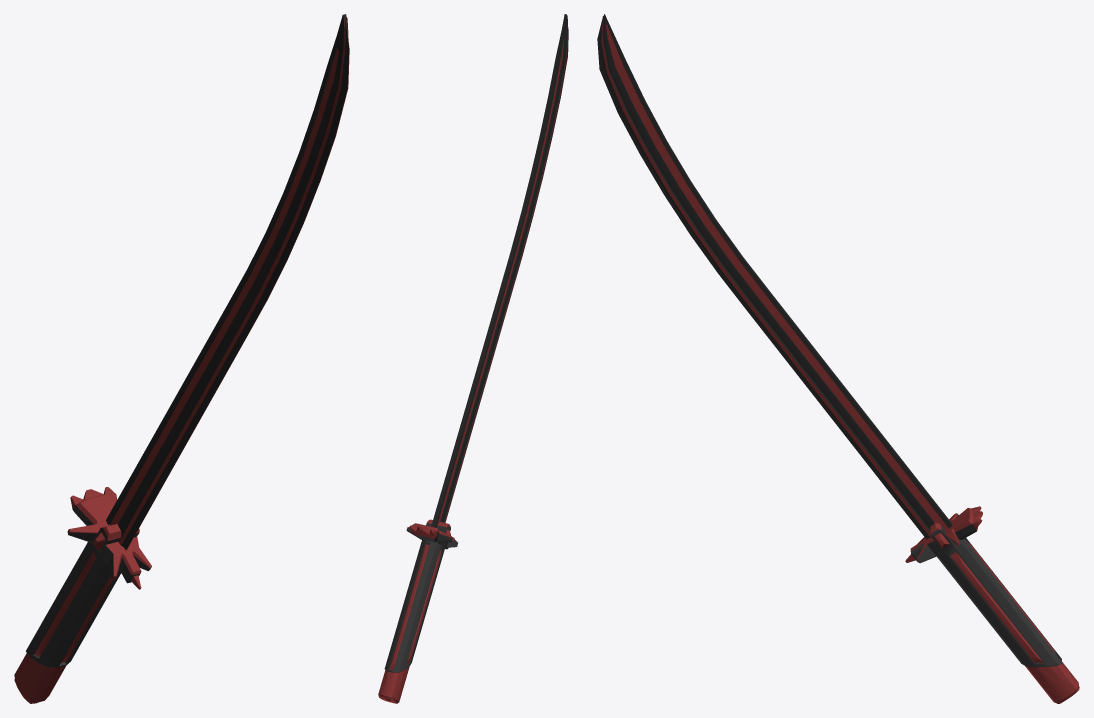
File: Katana.fbx
The picture shows the model from 3 angles, left to right: view 1: azimuth 30°, elevation 25°; view 2: azimuth 150°, elevation 25°; view 3: azimuth 270°, elevation 25°; orthographic projection. The views are drawn at different scales.
Visible parts, largest first — view 1: pPlane7; view 2: pPlane7; view 3: pPlane7.
Part boxes in pixels (x1,y1,x2,y2): pPlane7: [14, 14, 349, 703]; pPlane7: [378, 14, 568, 703]; pPlane7: [597, 14, 1079, 703].
Size of the model in its own units: 1.22 by 14.02 by 8.85.
